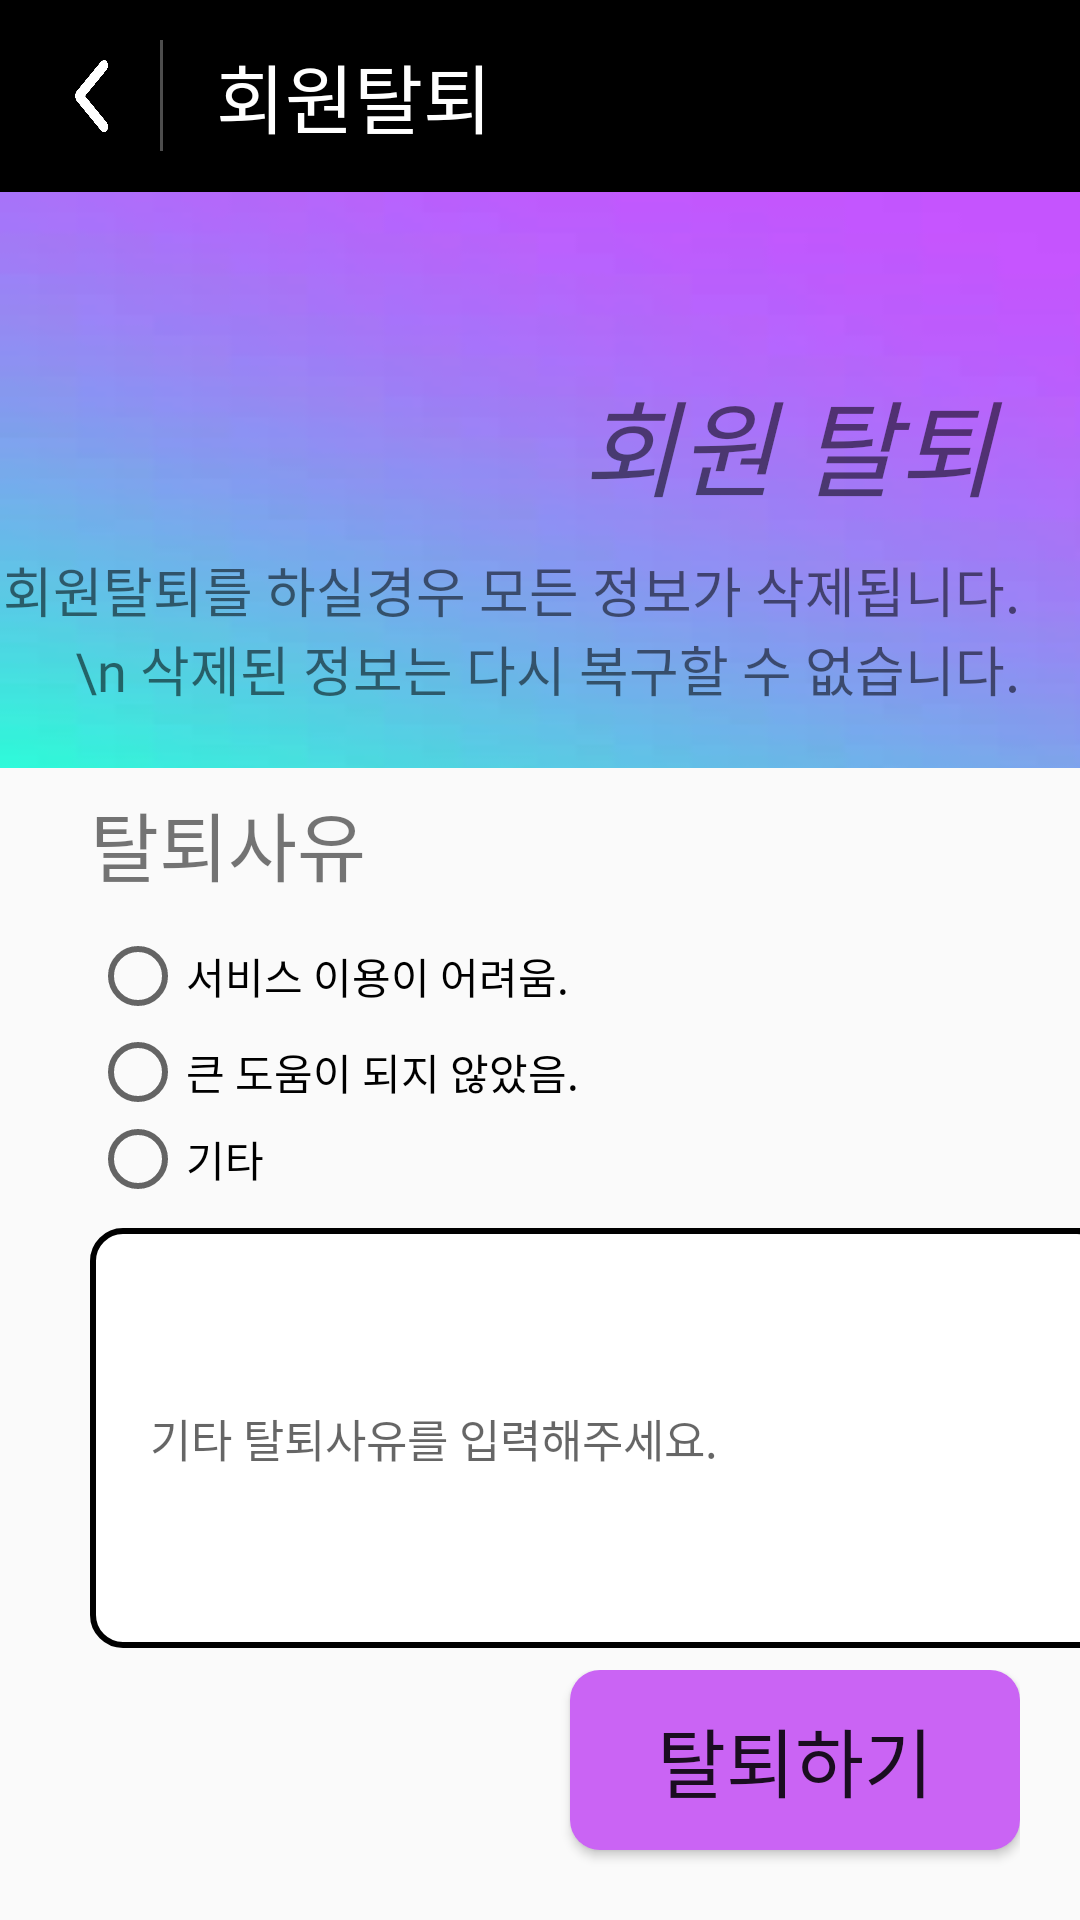

Where to tap for icons on this 1080w x 1920h app screen, as point (x, y):
leftarrow: point (91, 96)
